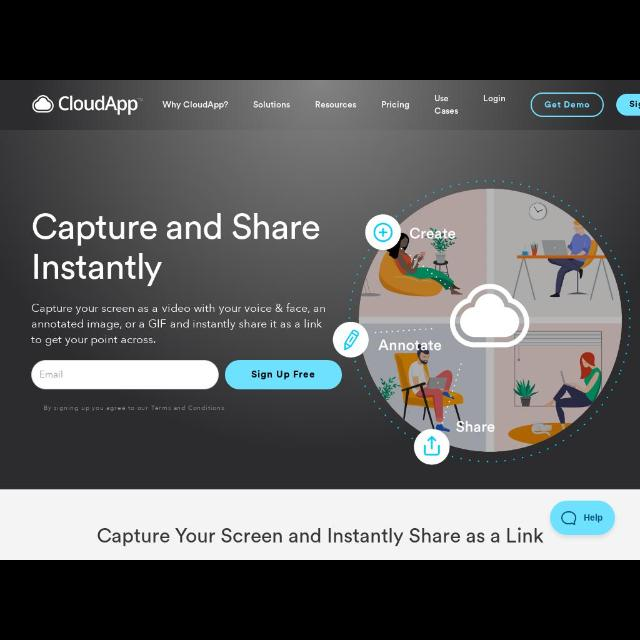backgroundimage: (347, 180, 631, 462)
icon: (374, 223, 394, 243), (424, 436, 441, 456), (344, 330, 358, 350), (562, 511, 576, 525)
image: (450, 284, 530, 348), (32, 94, 144, 118)
text: (32, 212, 322, 246), (31, 303, 326, 331), (98, 528, 544, 546), (33, 252, 163, 288), (30, 334, 156, 348), (43, 406, 227, 412), (377, 339, 441, 351), (162, 100, 228, 110), (252, 370, 314, 380), (409, 227, 455, 239), (456, 420, 496, 432), (544, 101, 590, 109), (253, 101, 290, 109), (382, 100, 410, 110), (315, 102, 357, 108), (483, 94, 505, 104), (41, 369, 64, 378), (435, 108, 459, 114), (584, 514, 602, 522), (434, 94, 448, 102)
textbutton: (32, 360, 220, 390), (225, 360, 342, 390), (551, 501, 615, 535), (531, 92, 605, 118)
toolbar: (1, 80, 639, 130)
